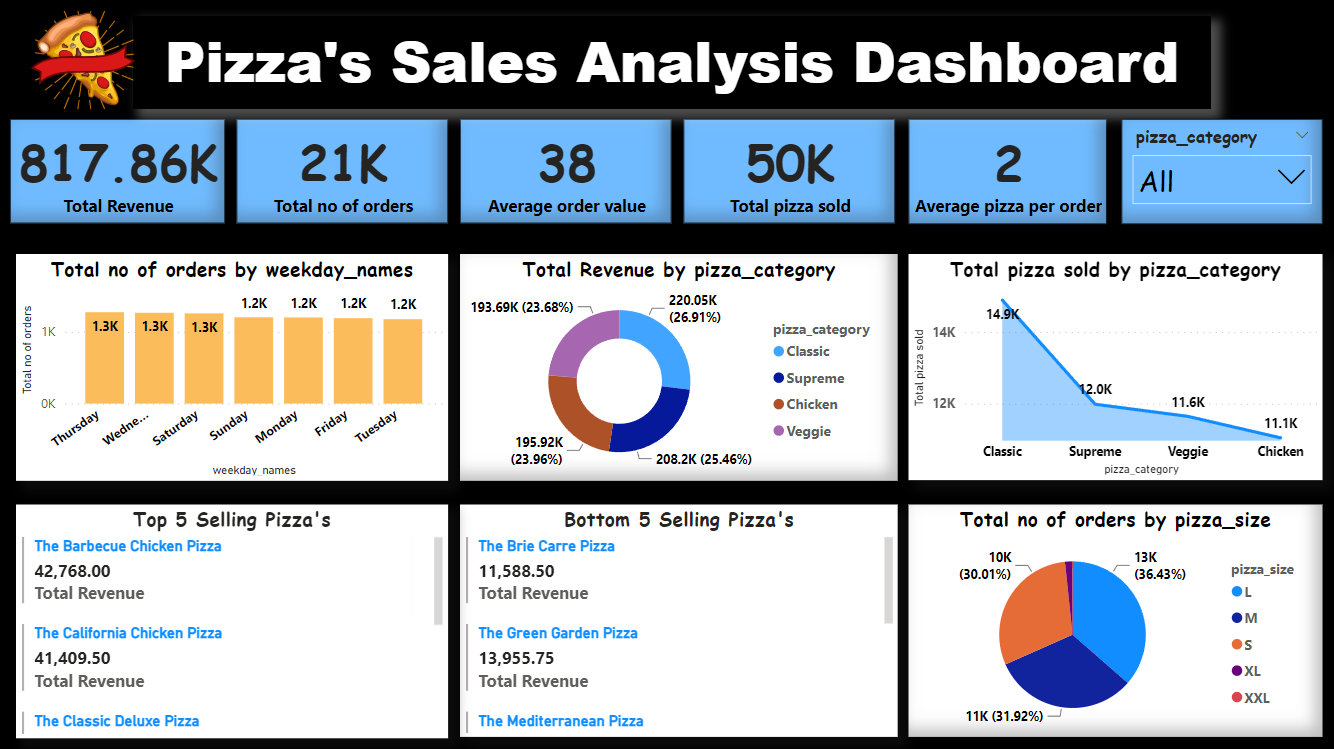

The page's visual inventory and layout, read from the dashboard file:
{"tool":"powerbi","page":{"name":"Page 1","canvas":[1280,720],"ordinal":0},"visuals":[{"type":"card","fields":{"Values":["Measures (2).Total Revenue"]},"box":[12.1,115.1,205.9,99.9],"z":0},{"type":"card","fields":{"Values":["Measures (2).Total no of orders"]},"box":[228.6,115.1,202.9,99.9],"z":1000},{"type":"card","fields":{"Values":["Measures (2).Average order value"]},"box":[442.1,115.1,202.9,99.9],"z":2000},{"type":"card","fields":{"Values":["Measures (2).Total pizza sold"]},"box":[657.2,115.1,202.9,99.9],"z":3000},{"type":"card","fields":{"Values":["Measures (2).Avg pizza per order"]},"box":[872.3,115,189.7,100.6],"z":4000},{"type":"textbox","box":[128.7,15.1,1032.7,89.3],"z":5000},{"type":"image","box":[0,0,165,119.6],"z":6000},{"type":"slicer","fields":{"Values":["pizza_sales_data.pizza_category"]},"box":[1076.4,115,192.6,100.6],"z":7000},{"type":"columnChart","fields":{"Category":["pizza_sales_data.weekday_names"],"Y":["Measures (2).Total no of orders"]},"box":[17.2,244.3,413.9,217],"z":8000},{"type":"donutChart","fields":{"Category":["pizza_sales_data.pizza_category"],"Y":["Measures (2).Total Revenue"]},"box":[442.6,244.3,419.6,217],"z":9000},{"type":"multiRowCard","title":"Bottom 5 Selling Pizza''s","fields":{"Values":["pizza_sales_data.pizza_name","Measures (2).Total Revenue"]},"box":[442.6,484.3,419.6,222.8],"z":10000},{"type":"multiRowCard","title":"Top 5 Selling Pizza''s","fields":{"Values":["pizza_sales_data.pizza_name","Measures (2).Total Revenue"]},"box":[17.2,484.3,413.9,224.2],"z":11000},{"type":"pieChart","fields":{"Category":["pizza_sales_data.pizza_size"],"Y":["Measures (2).Total no of orders"]},"box":[872.3,484.3,396.6,222.8],"z":12000},{"type":"areaChart","fields":{"Category":["pizza_sales_data.pizza_category"],"Y":["Measures (2).Total pizza sold"]},"box":[872.2,243.8,396.7,216.5],"z":12001}]}

Visuals, with their boxes in screenshot pixels (x1, y1, x2, y2), scaled from the page's 1280x720 canvas onto the 1334x749 screenshot:
card - Measures (2).Total Revenue: bbox=[13, 120, 227, 224]
card - Measures (2).Total no of orders: bbox=[238, 120, 450, 224]
card - Measures (2).Average order value: bbox=[461, 120, 672, 224]
card - Measures (2).Total pizza sold: bbox=[685, 120, 896, 224]
card - Measures (2).Avg pizza per order: bbox=[909, 120, 1107, 224]
textbox: bbox=[134, 16, 1210, 109]
image: bbox=[0, 0, 172, 124]
slicer - pizza_sales_data.pizza_category: bbox=[1122, 120, 1323, 224]
columnChart - pizza_sales_data.weekday_names x Measures (2).Total no of orders: bbox=[18, 254, 449, 480]
donutChart - pizza_sales_data.pizza_category x Measures (2).Total Revenue: bbox=[461, 254, 899, 480]
"Bottom 5 Selling Pizza''s" multiRowCard: bbox=[461, 504, 899, 736]
"Top 5 Selling Pizza''s" multiRowCard: bbox=[18, 504, 449, 737]
pieChart - pizza_sales_data.pizza_size x Measures (2).Total no of orders: bbox=[909, 504, 1322, 736]
areaChart - pizza_sales_data.pizza_category x Measures (2).Total pizza sold: bbox=[909, 254, 1322, 479]
